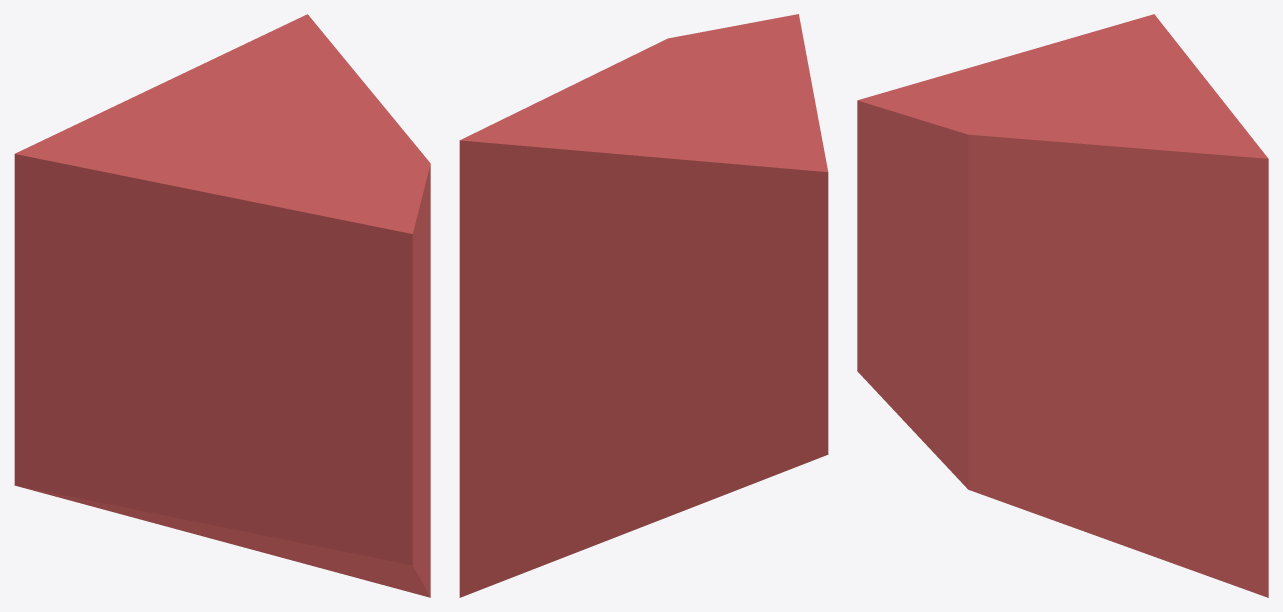
The picture shows the model from 3 angles, left to right: view 1: azimuth 30°, elevation 25°; view 2: azimuth 150°, elevation 25°; view 3: azimuth 270°, elevation 25°; orthographic projection. The views are drawn at different scales.
Parts seen in each view (by area): view 1: kb3_c_col; view 2: kb3_c_col; view 3: kb3_c_col.
Part boxes in pixels (box(x1,y1,x2,y2)): kb3_c_col: box(14, 14, 430, 597); kb3_c_col: box(459, 14, 828, 597); kb3_c_col: box(857, 14, 1268, 597).
Size of the model in its own units: 1.85 by 2.61 by 2.22.
